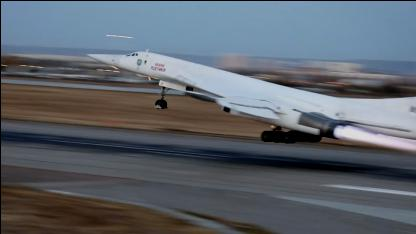Su34: (84, 47, 416, 143)
